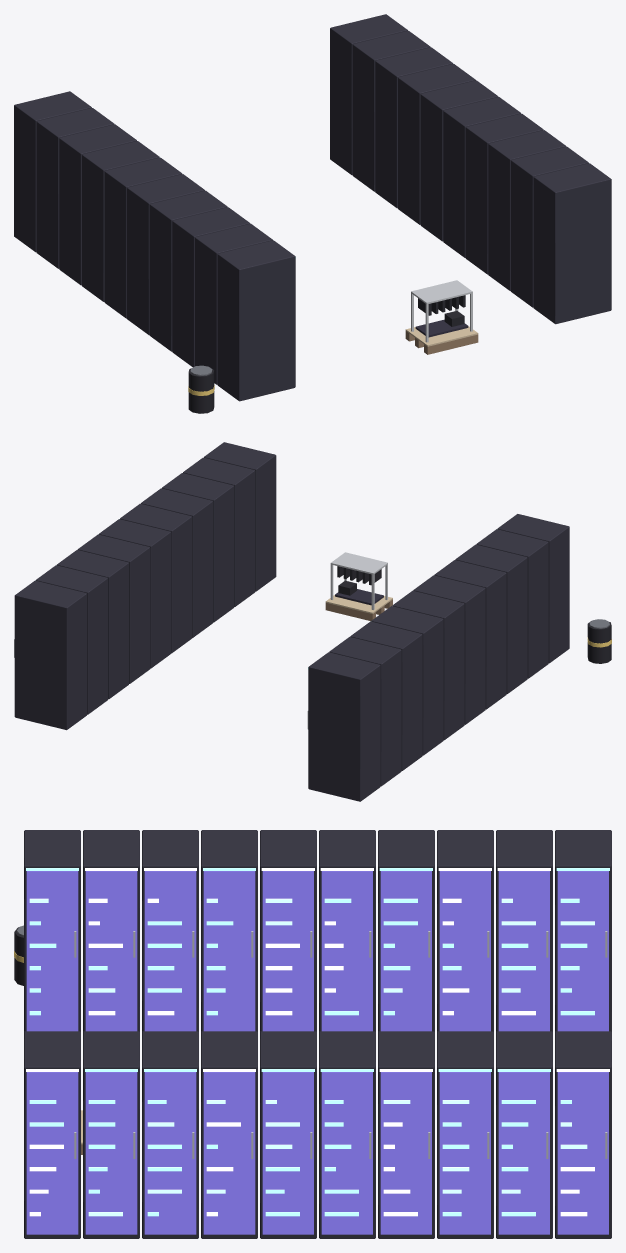
Rendered from einrichtung_rackhalle_2_buehne.glb.
3 views of the same model, one above another, from view 1: azimuth 30°, elevation 25°; view 2: azimuth 150°, elevation 25°; view 3: azimuth 270°, elevation 25° (orthographic). The views are drawn at different scales.
Visible parts, largest first — view 1: einrichtung_rackhalle_2_buehne; view 2: einrichtung_rackhalle_2_buehne; view 3: einrichtung_rackhalle_2_buehne.
Boxes of the visible parts, box(x1,y1,x2,y2) form: einrichtung_rackhalle_2_buehne: box(14, 14, 611, 413); einrichtung_rackhalle_2_buehne: box(14, 442, 611, 801); einrichtung_rackhalle_2_buehne: box(14, 830, 611, 1238).
Size of the model in its own units: 6.66 by 2 by 6.28.
